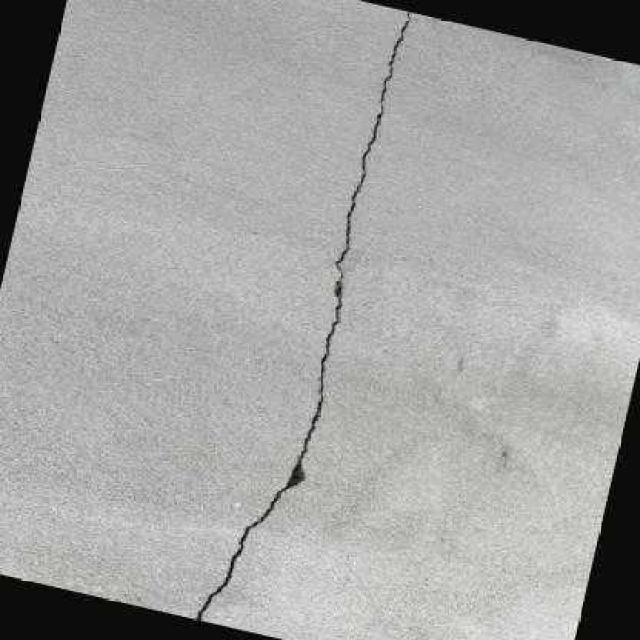D00: (192, 11, 412, 622)
